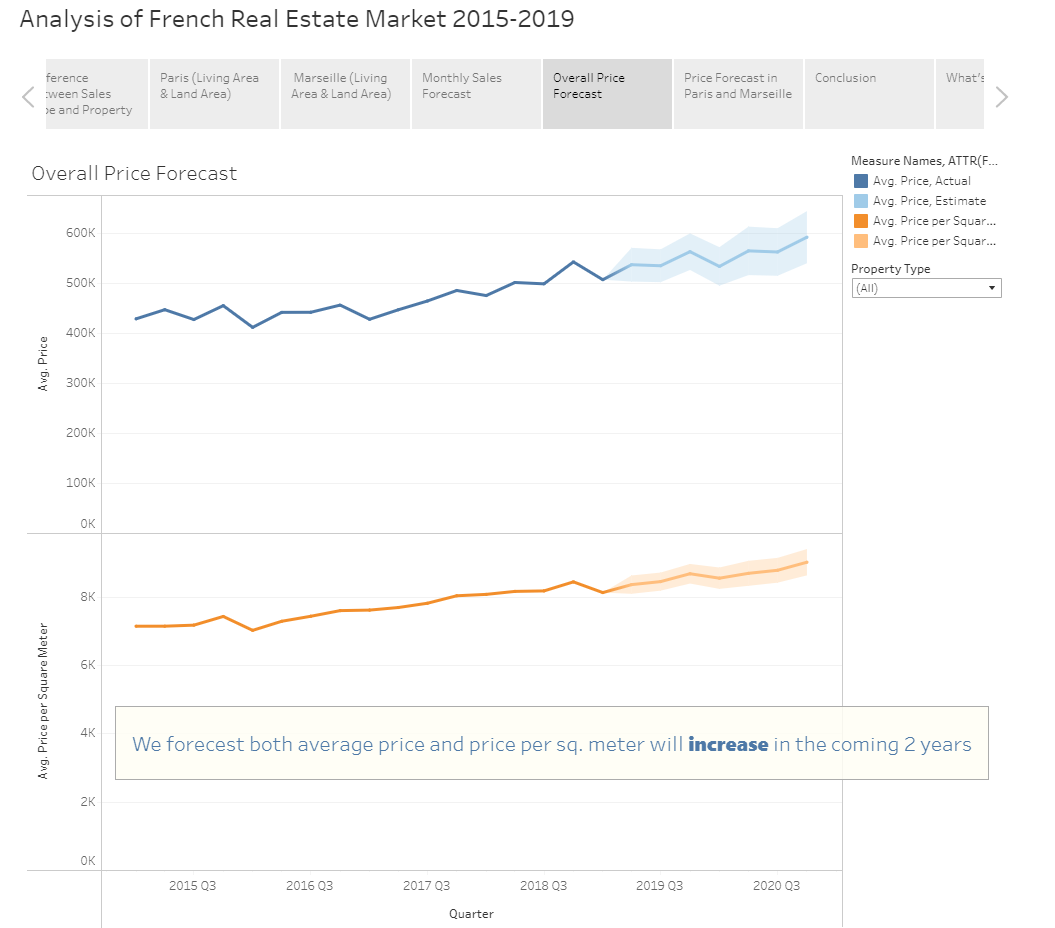

This screenshot's page, from the dashboard's own definition file:
{"tool":"tableau","page":{"name":"Dashboard(Overall Price Forecast)","canvas":[1000,800],"ordinal":9},"visuals":[{"type":"worksheet","box":[0,0,1000,800]},{"type":"worksheet","param":"horz","box":[8,8,984,784]},{"type":"worksheet","box":[8,8,824,784]},{"type":"worksheet","title":"Overall Price Forecast ","mark":"Automatic","rows":["Price","Calculation_4918423423537328128"],"cols":["Date of Sale"],"box":[8,8,824,784]},{"type":"worksheet","param":"vert","box":[832,8,160,784]},{"type":"worksheet","title":"Overall Price Forecast ","mark":"Automatic","rows":["Price","Calculation_4918423423537328128"],"cols":["Date of Sale"],"param":"[group project_v3.5-node-Clean 1-94d394501dcc497eac38a183345e52f1].[:Measure Nam","box":[832,8,160,114]},{"type":"worksheet","title":"Overall Price Forecast ","mark":"Automatic","rows":["Price","Calculation_4918423423537328128"],"cols":["Date of Sale"],"param":"[group project_v3.5-node-Clean 1-94d394501dcc497eac38a183345e52f1].[none:Propert","box":[832,122,160,61]}]}

Visuals, with their boxes on the page's 1000x800 design canvas (x1, y1, x2, y2). These are canvas units, not pixel positions in the 1055x928 screenshot, which may show the page scaled, cropped or inside an application window:
worksheet: <bbox>0, 0, 1000, 800</bbox>
worksheet: <bbox>8, 8, 992, 792</bbox>
worksheet: <bbox>8, 8, 832, 792</bbox>
"Overall Price Forecast " worksheet: <bbox>8, 8, 832, 792</bbox>
worksheet: <bbox>832, 8, 992, 792</bbox>
"Overall Price Forecast " worksheet: <bbox>832, 8, 992, 122</bbox>
"Overall Price Forecast " worksheet: <bbox>832, 122, 992, 183</bbox>
